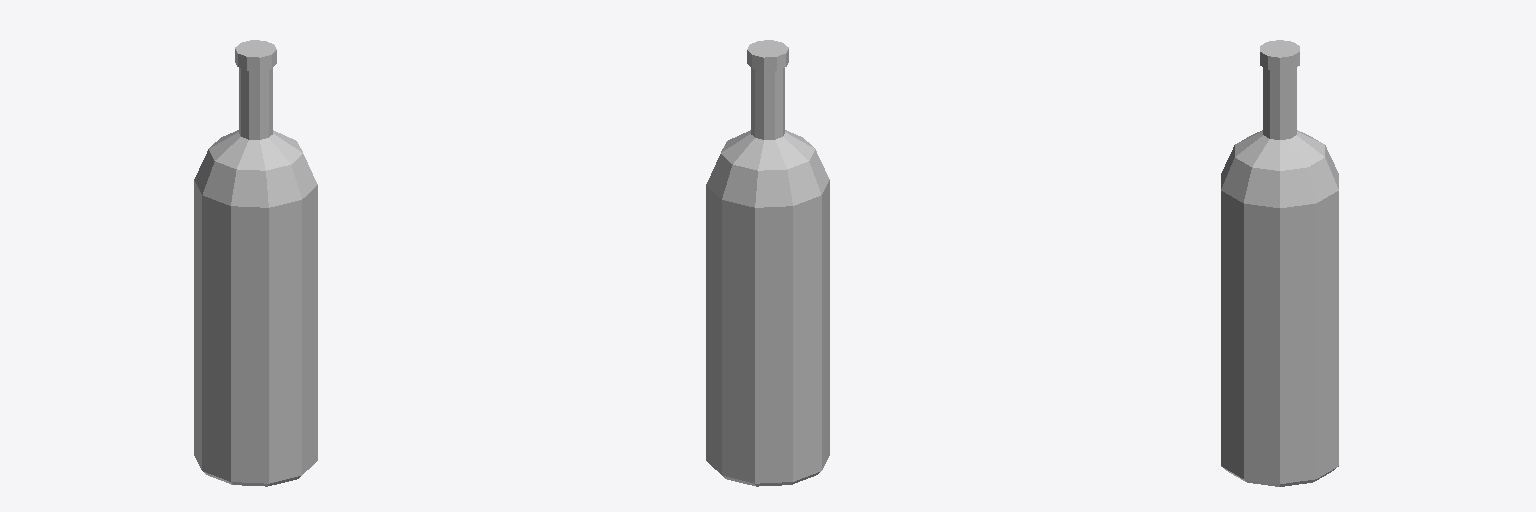
File: Wine_Bottle.OBJ
The picture shows the model from 3 angles: view 1: azimuth 30°, elevation 25°; view 2: azimuth 150°, elevation 25°; view 3: azimuth 270°, elevation 25°; orthographic projection.
Size of the model in its own units: 0.045 by 0.1659 by 0.0428.